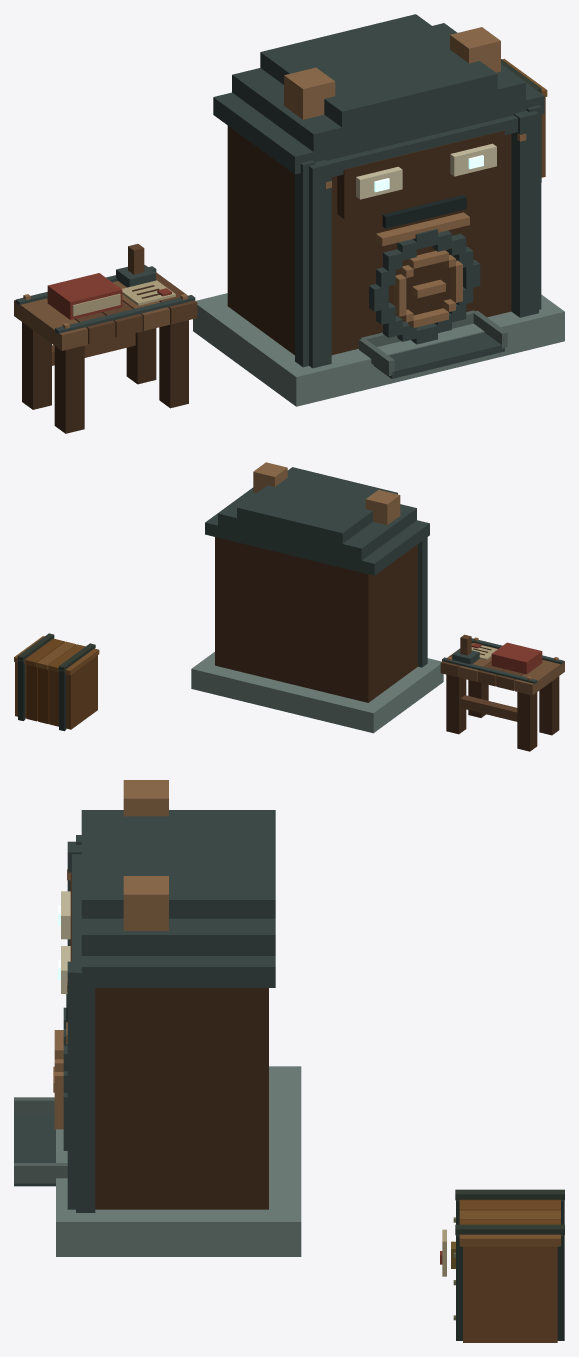
The model's file is B39_savings.glb.
The picture shows the model from 3 angles, top to bottom: view 1: azimuth 30°, elevation 25°; view 2: azimuth 150°, elevation 25°; view 3: azimuth 270°, elevation 25°; orthographic projection. The views are drawn at different scales.
Visible parts, largest first — view 1: B39_savings__main_station_SteppedVaultCrown_iron, B39_savings__main_station_CabinetBody_wooddark, B39_savings__main_station_VaultPlinth_stone, B39_savings__main_station_VaultRib_iron, B39_savings__receipt_station_TableLegs_wooddark, B39_savings__main_station_GuardianMask_wooddark, B39_savings__main_station_CabinetEdge_iron, B39_savings__main_station_Ring_iron, B39_savings__main_station_GuardianEar_copper, B39_savings__receipt_station_TableTop_woodlight, B39_savings__main_station_Tray_iron, B39_savings__main_station_Ring_copper (+12 smaller); view 2: B39_savings__main_station_CabinetBody_wooddark, B39_savings__main_station_SteppedVaultCrown_iron, B39_savings__main_station_VaultPlinth_stone, B39_savings__sealed_records_reuse_Prop_Crate_NW_01, B39_savings__receipt_station_TableLegs_wooddark, B39_savings__main_station_GuardianEar_copper, B39_savings__receipt_station_TableTop_woodlight, B39_savings__main_station_CabinetEdge_iron, B39_savings__receipt_station_BookCover_red, B39_savings__receipt_station_TableTop_wood, B39_savings__receipt_station_TableRail_wood, B39_savings__receipt_station_TableBands_iron; view 3: B39_savings__main_station_CabinetBody_wooddark, B39_savings__main_station_SteppedVaultCrown_iron, B39_savings__main_station_VaultPlinth_stone, B39_savings__sealed_records_reuse_Prop_Crate_NW_01, B39_savings__main_station_CabinetEdge_iron, B39_savings__main_station_GuardianEar_copper, B39_savings__main_station_VaultRib_iron, B39_savings__main_station_Tray_iron, B39_savings__main_station_TrayRim_edge, B39_savings__main_station_Ring_copper, B39_savings__main_station_MaskEye_bone.
Part boxes in pixels (x1,y1,x2,y2): B39_savings__main_station_SteppedVaultCrown_iron: (213,14,544,174); B39_savings__main_station_CabinetBody_wooddark: (227,126,511,354); B39_savings__main_station_VaultPlinth_stone: (193,293,564,406); B39_savings__main_station_VaultRib_iron: (309,110,538,368); B39_savings__receipt_station_TableLegs_wooddark: (22,320,188,433); B39_savings__main_station_GuardianMask_wooddark: (337,130,504,219); B39_savings__main_station_CabinetEdge_iron: (295,105,541,367); B39_savings__main_station_Ring_iron: (369,229,480,344); B39_savings__main_station_GuardianEar_copper: (284,27,500,119); B39_savings__receipt_station_TableTop_woodlight: (14,281,169,350); B39_savings__main_station_Tray_iron: (374,332,504,378); B39_savings__main_station_Ring_copper: (394,250,462,327); B39_savings__main_station_CabinetBody_wooddark: (215,537,417,702); B39_savings__main_station_SteppedVaultCrown_iron: (205,467,429,575); B39_savings__main_station_VaultPlinth_stone: (191,652,443,733); B39_savings__sealed_records_reuse_Prop_Crate_NW_01: (14,633,99,731); B39_savings__receipt_station_TableLegs_wooddark: (446,674,559,751); B39_savings__main_station_GuardianEar_copper: (253,462,400,524); B39_savings__receipt_station_TableTop_woodlight: (459,646,564,695); B39_savings__main_station_CabinetEdge_iron: (418,537,427,667); B39_savings__receipt_station_BookCover_red: (491,642,542,674); B39_savings__receipt_station_TableTop_wood: (440,642,523,690); B39_savings__receipt_station_TableRail_wood: (460,695,517,721); B39_savings__receipt_station_TableBands_iron: (442,638,563,683); B39_savings__main_station_CabinetBody_wooddark: (95,988,268,1209); B39_savings__main_station_SteppedVaultCrown_iron: (81,810,275,987); B39_savings__main_station_VaultPlinth_stone: (56,1066,301,1256); B39_savings__sealed_records_reuse_Prop_Crate_NW_01: (451,1189,564,1342); B39_savings__main_station_CabinetEdge_iron: (72,835,95,1212); B39_savings__main_station_GuardianEar_copper: (123,780,168,930); B39_savings__main_station_VaultRib_iron: (67,841,81,1209); B39_savings__main_station_Tray_iron: (14,1114,55,1186); B39_savings__main_station_TrayRim_edge: (14,1097,67,1183); B39_savings__main_station_Ring_copper: (54,1030,63,1129); B39_savings__main_station_MaskEye_bone: (61,891,70,993).
Bounding box in the file's own units: 6.66 × 2.97 × 4.27.
